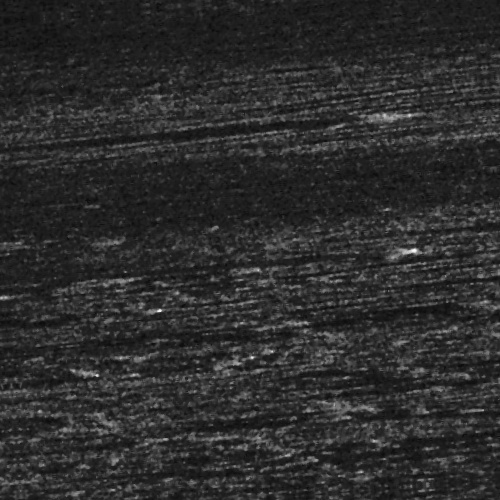object: (316, 254, 493, 271), (315, 119, 440, 130), (70, 261, 153, 270), (270, 322, 311, 327)
shadow: (129, 254, 404, 271), (24, 119, 377, 130), (77, 322, 290, 327), (336, 296, 500, 301), (37, 261, 111, 270), (446, 239, 500, 248), (356, 321, 492, 324), (455, 373, 500, 382)
